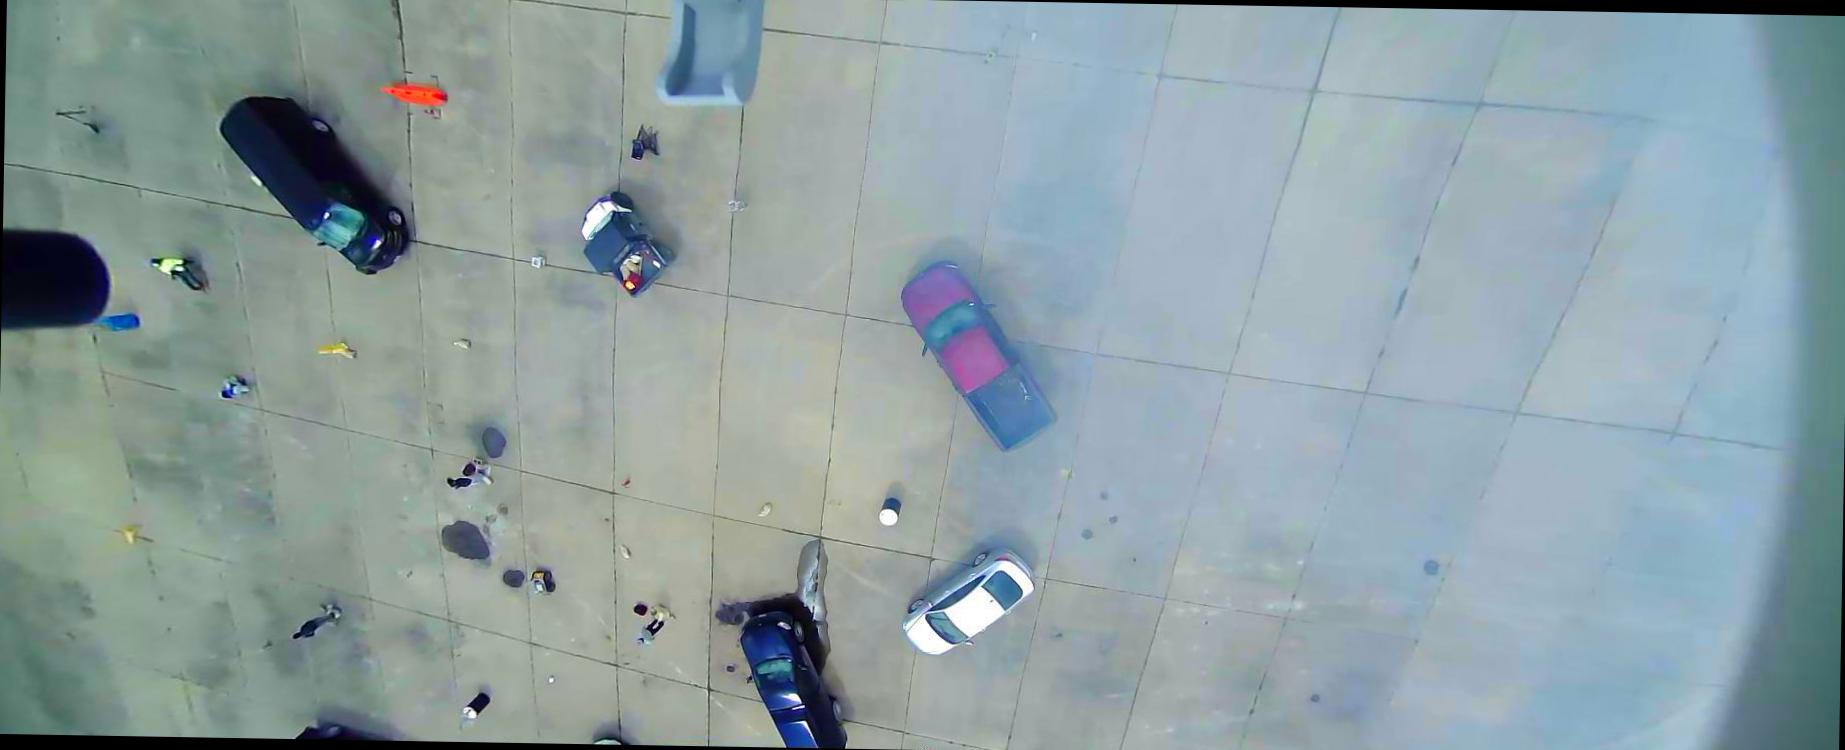vehicle: (214, 94, 409, 276), (898, 259, 1061, 454), (735, 610, 851, 748), (901, 544, 1037, 659), (577, 190, 677, 300), (293, 722, 384, 741)
